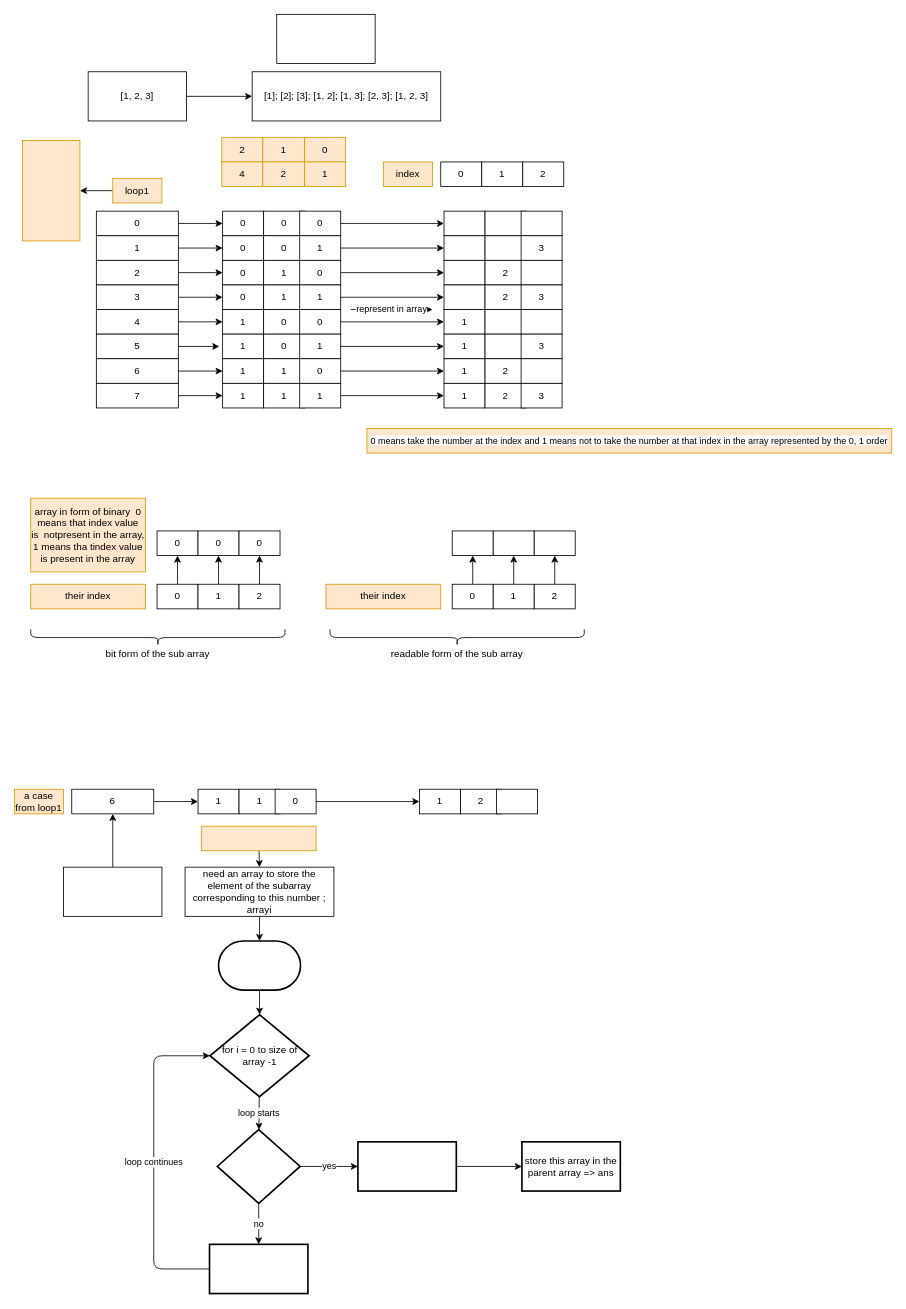
Image size: 906x1309. Some labels were removed from this diagram. Here are the shapes that lost their labels. From the top down, the centre of each, then its label:
the point at 325,39: Print all power subset of the array
the point at 51,190: store array created in each loop in a greated parent array
the point at 258,838: loop2 to traverse the digits
the point at 112,891: temp
the point at 259,965: start
the point at 258,1166: temp && 1 << i
the point at 407,1166: we need that i; store array[i] in the arrayi
the point at 258,1268: i ++
